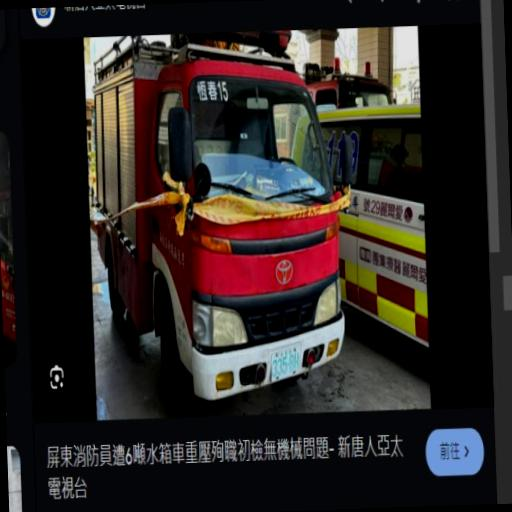fire truck: (83, 29, 356, 404)
